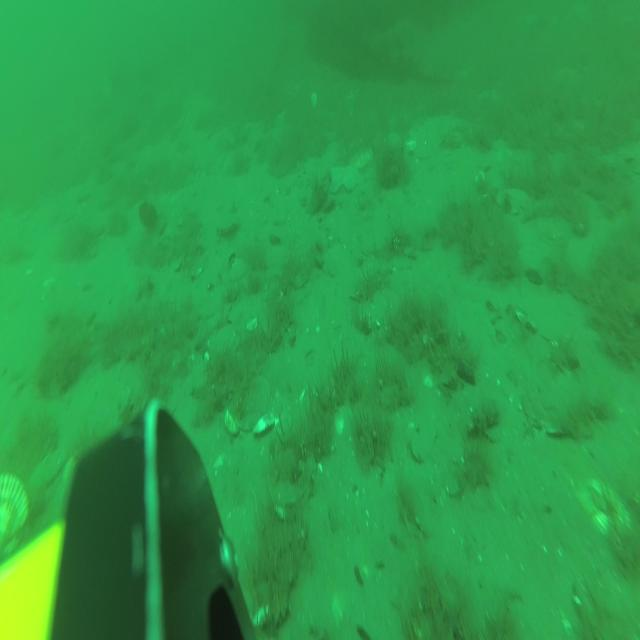scallop: (222, 371, 272, 436), (2, 475, 30, 554), (206, 320, 243, 363), (496, 187, 528, 214), (214, 204, 240, 236), (356, 148, 373, 170), (308, 90, 317, 110)
starfish: (327, 162, 366, 194)
